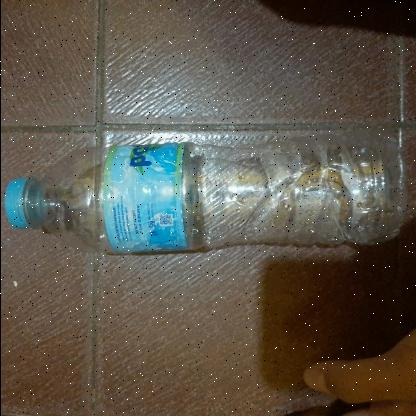Plastic Bottle: (0, 126, 408, 254)
